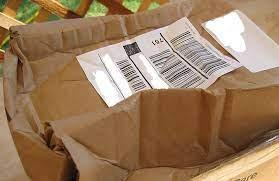damage_box: (2, 3, 277, 178)
